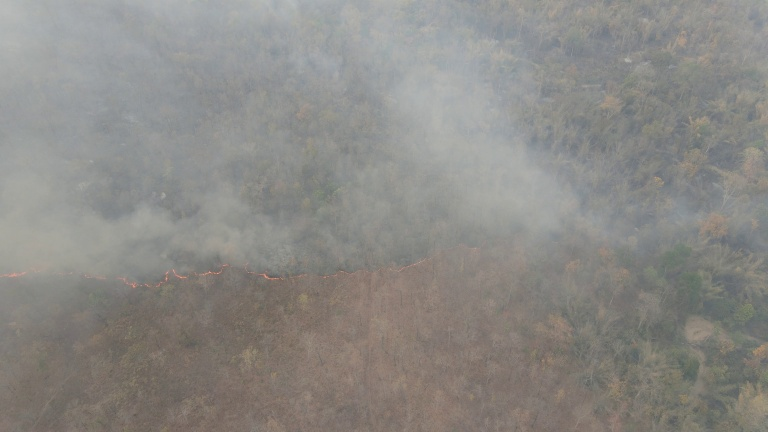fire: (1, 236, 481, 290)
smoke: (1, 1, 584, 317), (585, 135, 768, 261)
